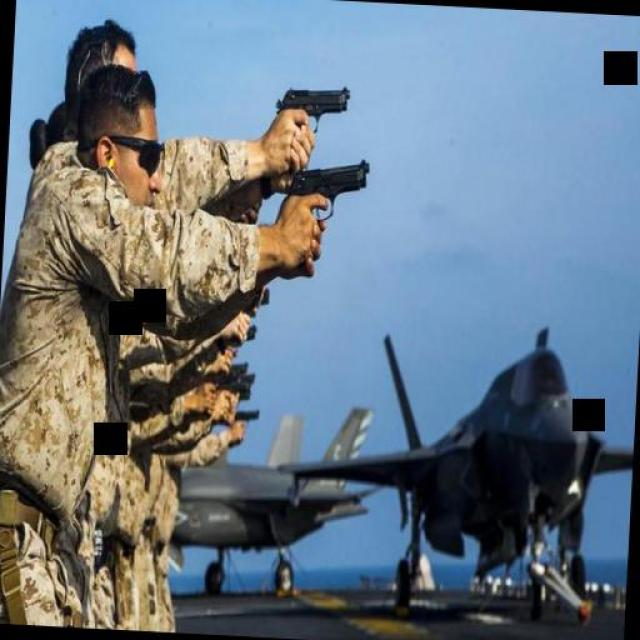gun: (275, 142, 373, 242), (268, 76, 352, 150)
